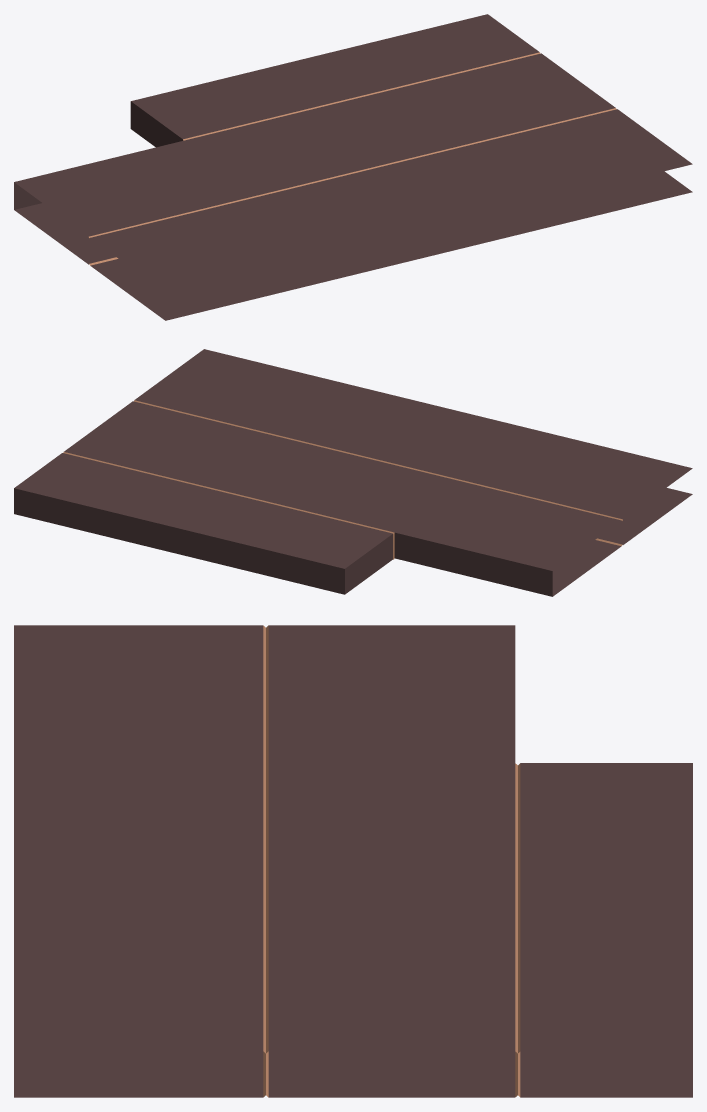
The model's file is builder_40.FBX.
The picture shows the model from 3 angles, top to bottom: view 1: azimuth 30°, elevation 25°; view 2: azimuth 150°, elevation 25°; view 3: azimuth 270°, elevation 25°; orthographic projection. The views are drawn at different scales.
Visible parts, largest first — view 1: builder_40; view 2: builder_40; view 3: builder_40.
Boxes of the visible parts, x1,y1,x2,y2 form: builder_40: [14, 14, 692, 320]; builder_40: [14, 349, 692, 596]; builder_40: [14, 625, 692, 1097].
Size of the model in its own units: 120 by 6.35 by 80.78.
